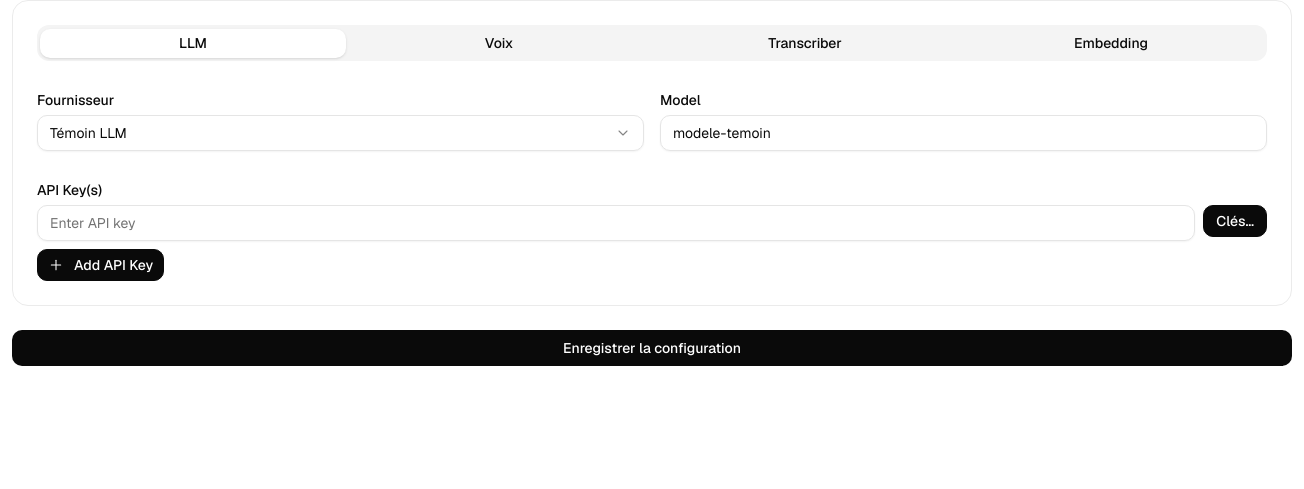
Test: [.mark] la voix de l'appel à l'écran › laisse l'onglet Voice d'un agent seul tel qu'il était : aucun verrou, aucune note
The image size is (1304, 489).
Press the mouse on the tab "Voix" at x=499, y=43, box 346,28 -> 652,58
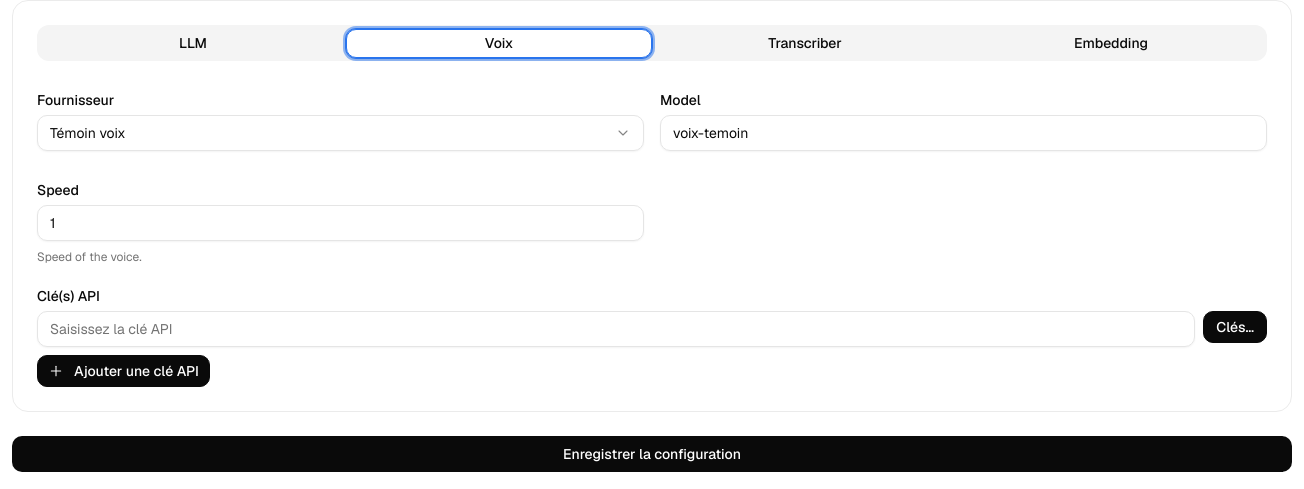
Check: the 1st field is shown, box 660,115 -> 1267,151
